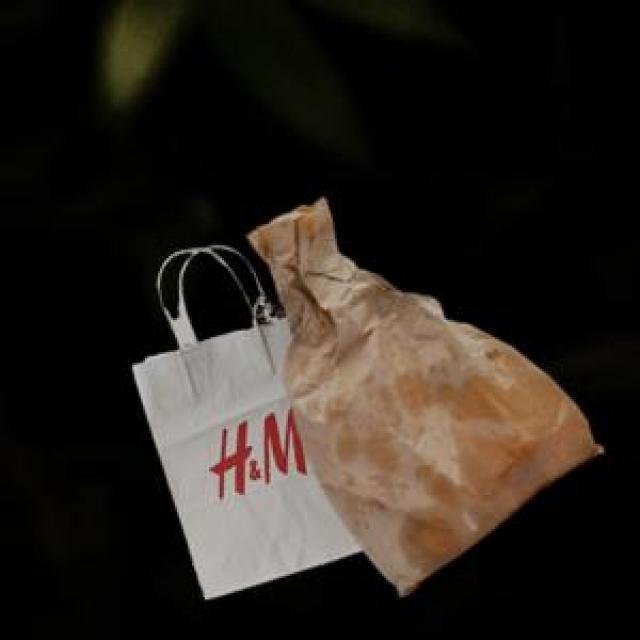paper: (243, 194, 600, 591), (128, 271, 358, 595)
